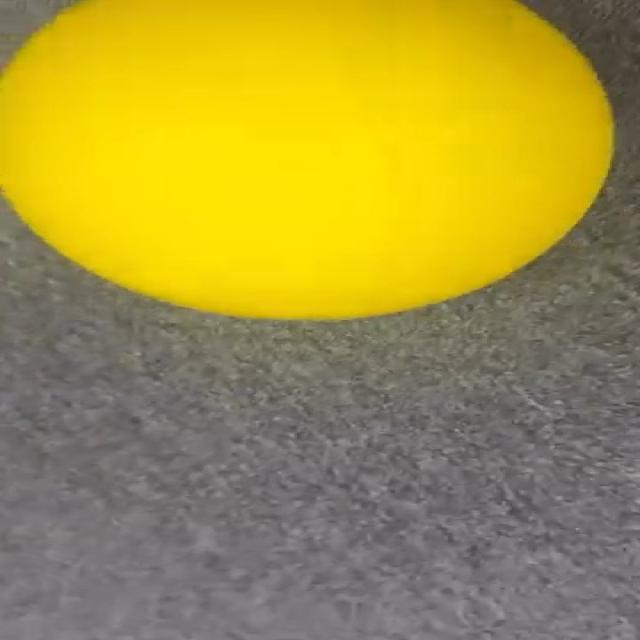Fuels: (0, 0, 619, 319)
